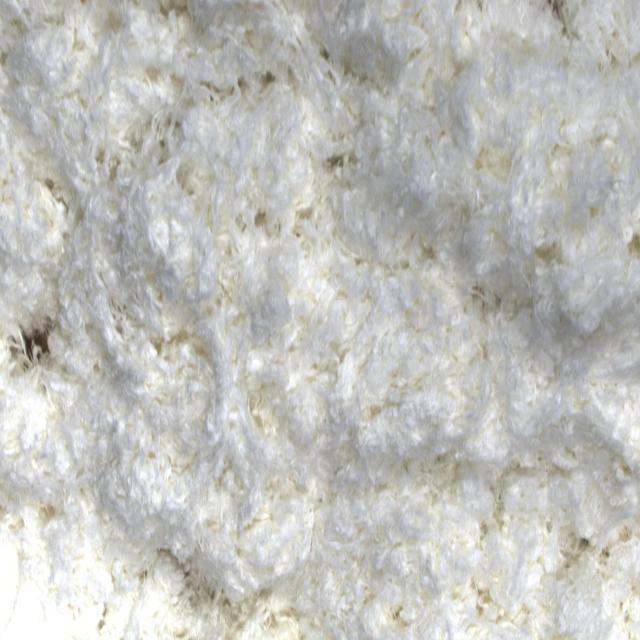dust: (15, 332, 62, 369)
